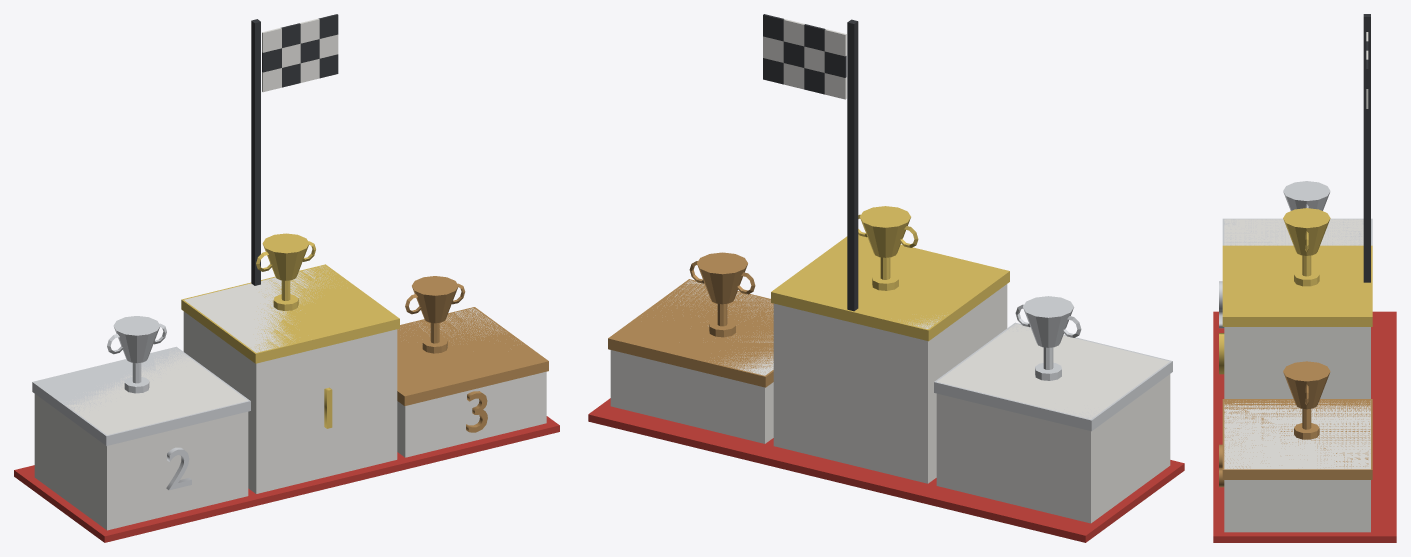
File: podium.glb
The picture shows the model from 3 angles, left to right: view 1: azimuth 30°, elevation 25°; view 2: azimuth 150°, elevation 25°; view 3: azimuth 270°, elevation 25°; orthographic projection. The views are drawn at different scales.
Parts seen in each view (by area): view 1: podium; view 2: podium; view 3: podium.
Part boxes in pixels (x1,y1,x2,y2): podium: (14,14,559,542); podium: (588,14,1184,542); podium: (1213,14,1396,542).
Bounding box in the file's own units: 2.9 × 2.5 × 1.
